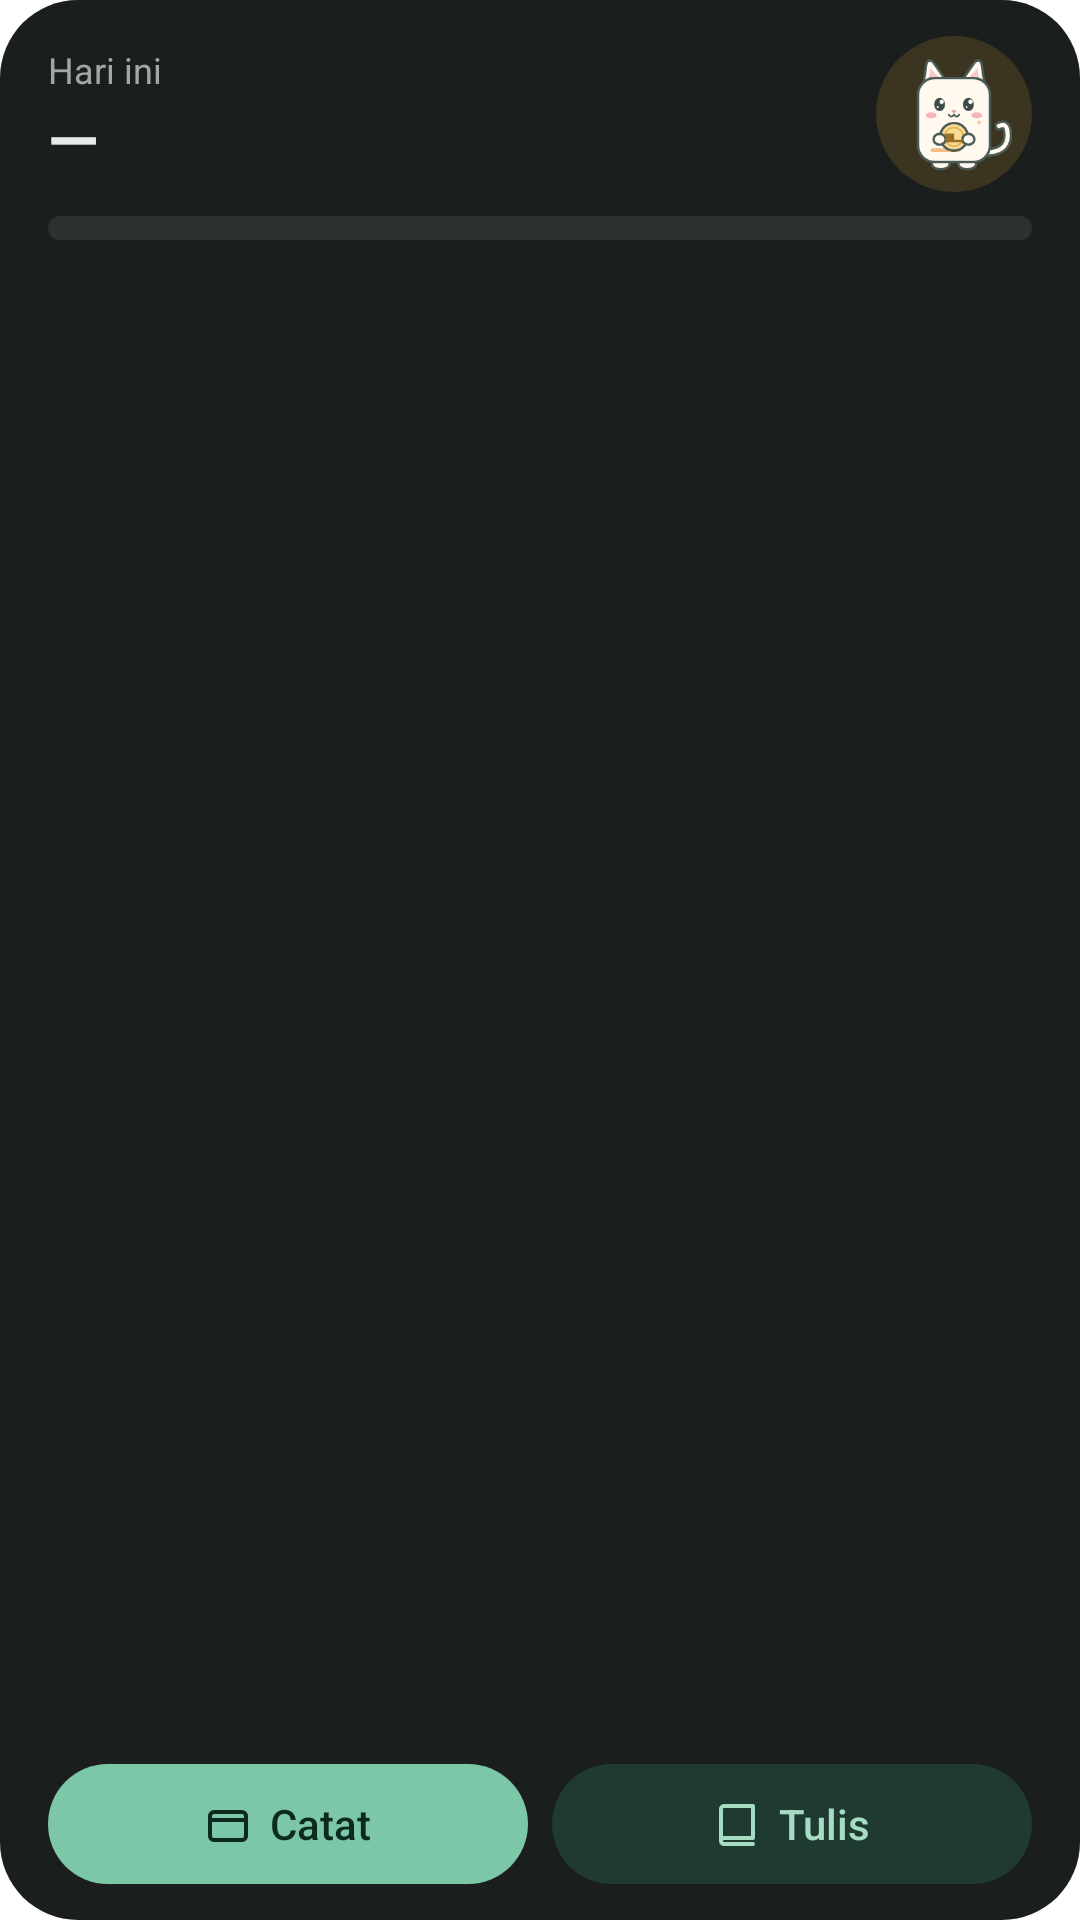

Point at icon controls on the screen. Image size 1080*1920, points as (x=x, y=y).
widget book: (x=737, y=1825)
widget kucing koin: (x=964, y=114)
widget wallet: (x=228, y=1826)
